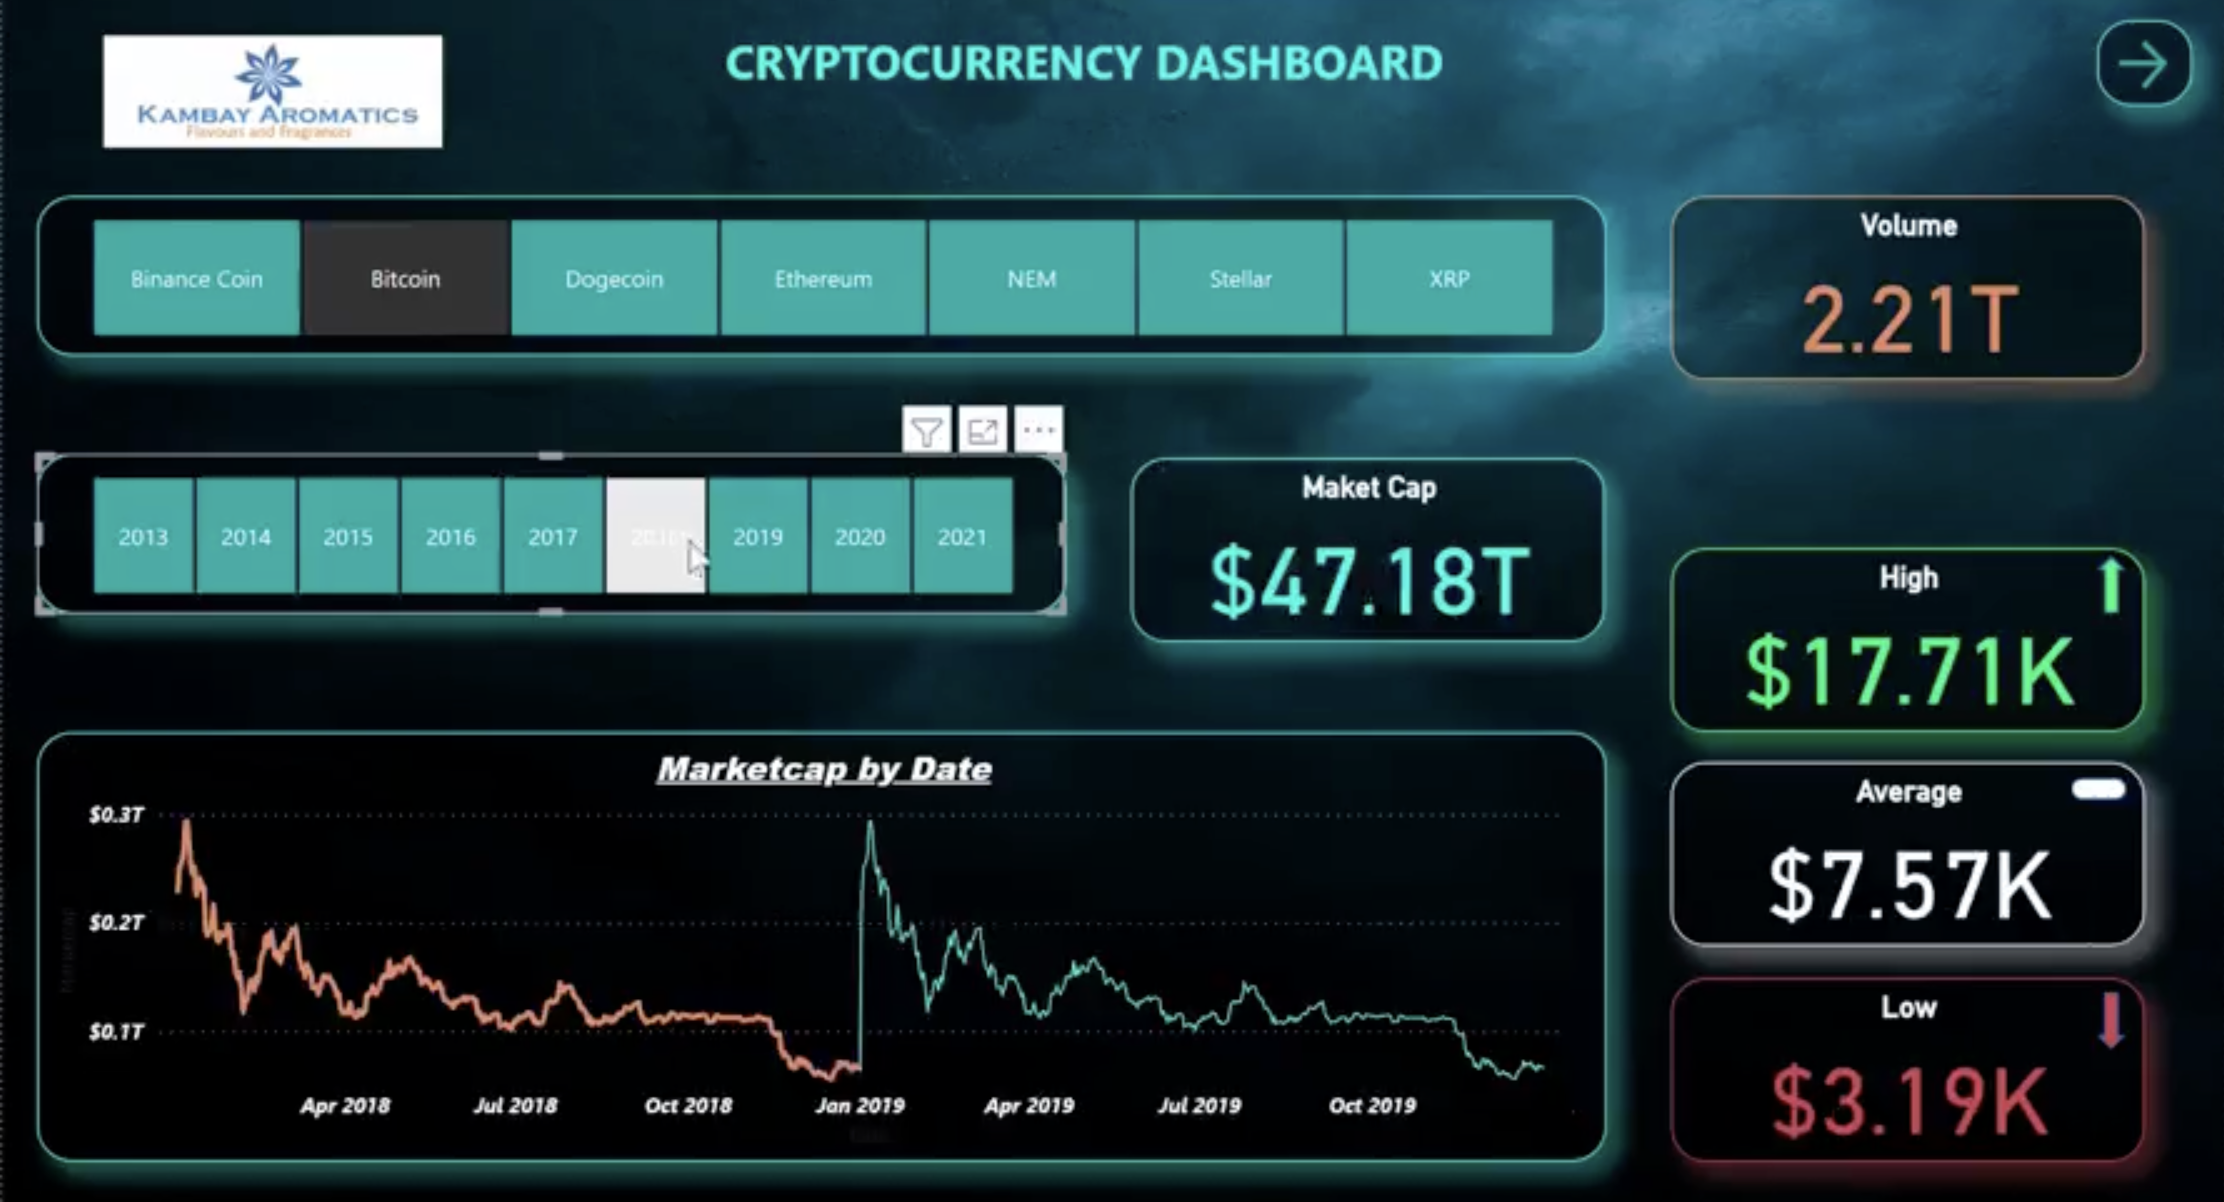

The page's visual inventory and layout, read from the dashboard file:
{"tool":"powerbi","page":{"name":"Page 1","canvas":[1280,720],"ordinal":0},"visuals":[{"type":"slicer","fields":{"Values":["CryptoData CSV.Name"]},"box":[19.1,118.6,903.9,91.8],"z":0},{"type":"slicer","fields":{"Values":["CryptoData CSV.Year"]},"box":[19.1,267.7,592.8,91.8],"z":1000},{"type":"lineChart","fields":{"Y":["Sum(CryptoData CSV.Marketcap)"],"Category":["CryptoData CSV.Date"]},"box":[19.1,427.1,903.9,247.3],"z":2000},{"type":"actionButton","box":[1206.1,17.8,54.8,49.7],"z":3000},{"type":"image","box":[53,17.3,205.1,81.8],"z":4000},{"type":"textbox","box":[411.8,17.8,455.1,48.4],"z":5000},{"type":"card","title":"Volume","fields":{"Values":["Sum(CryptoData CSV.Volume)"]},"box":[961.3,118.6,272.8,105.8],"z":6000},{"type":"card","title":"Maket Cap","fields":{"Values":["Sum(CryptoData CSV.Marketcap)"]},"box":[650,270.1,272.8,105.8],"z":6001},{"type":"card","title":"High","fields":{"Values":["Max(CryptoData CSV.High)"]},"box":[961.3,321.3,272.8,105.8],"z":6002},{"type":"card","title":"Average","fields":{"Values":["Avg(CryptoData CSV.Average)"]},"box":[961.3,444.9,272.8,105.8],"z":6003},{"type":"card","title":"Low","fields":{"Values":["Min(CryptoData CSV.Low)"]},"box":[961.3,568.6,272.8,105.8],"z":6004},{"type":"shape","box":[1206.1,326.4,16.6,33.1],"z":6005},{"type":"shape","box":[1206.1,577.5,16.6,33.1],"z":6006},{"type":"shape","box":[1190.8,453.9,31.9,12.7],"z":6007}]}

Visuals, with their boxes on the page's 1280x720 design canvas (x1, y1, x2, y2). These are canvas units, not pixel positions in the 2224x1202 screenshot, which may show the page scaled, cropped or inside an application window:
slicer - CryptoData CSV.Name: [x1=19, y1=119, x2=923, y2=210]
slicer - CryptoData CSV.Year: [x1=19, y1=268, x2=612, y2=360]
lineChart - Sum(CryptoData CSV.Marketcap) x CryptoData CSV.Date: [x1=19, y1=427, x2=923, y2=674]
actionButton: [x1=1206, y1=18, x2=1261, y2=68]
image: [x1=53, y1=17, x2=258, y2=99]
textbox: [x1=412, y1=18, x2=867, y2=66]
"Volume" card: [x1=961, y1=119, x2=1234, y2=224]
"Maket Cap" card: [x1=650, y1=270, x2=923, y2=376]
"High" card: [x1=961, y1=321, x2=1234, y2=427]
"Average" card: [x1=961, y1=445, x2=1234, y2=551]
"Low" card: [x1=961, y1=569, x2=1234, y2=674]
shape: [x1=1206, y1=326, x2=1223, y2=360]
shape: [x1=1206, y1=578, x2=1223, y2=611]
shape: [x1=1191, y1=454, x2=1223, y2=467]
